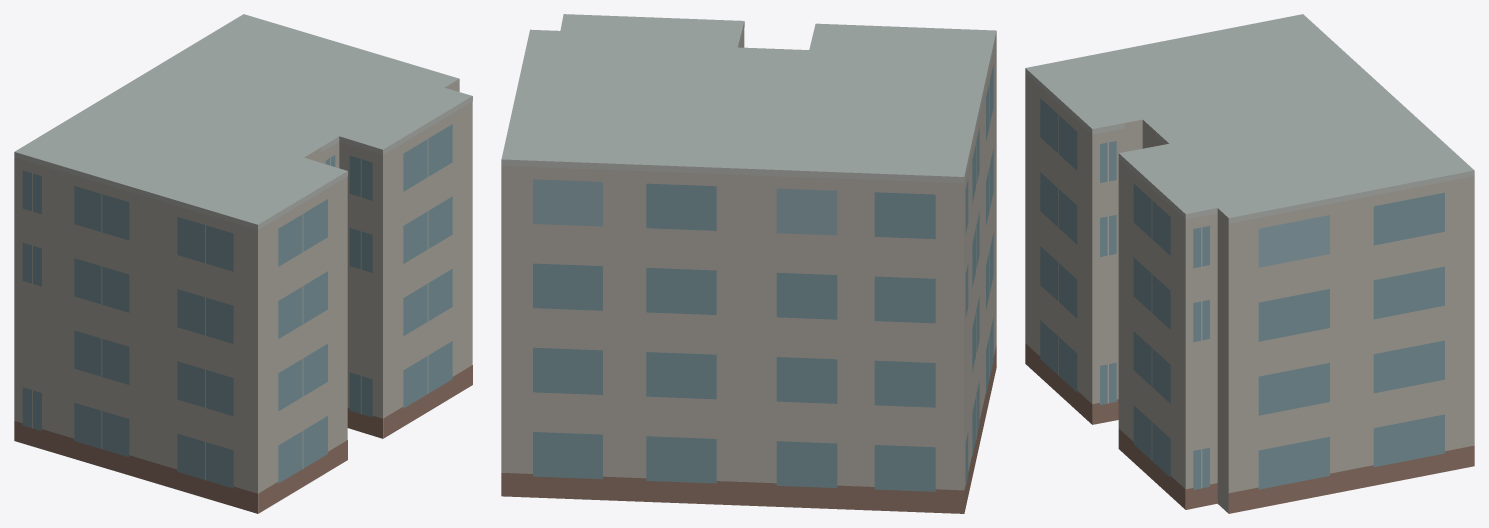
File: survey-upis-32911227.glb
3 renders of one model, left to right at view 1: azimuth 30°, elevation 25°; view 2: azimuth 150°, elevation 25°; view 3: azimuth 270°, elevation 25°, orthographic. The views are drawn at different scales.
Parts seen in each view (by area): view 1: survey-upis-32911227.tmp; view 2: survey-upis-32911227.tmp; view 3: survey-upis-32911227.tmp.
Part boxes in pixels (x1=…): survey-upis-32911227.tmp: x1=14, y1=14, x2=472, y2=513; survey-upis-32911227.tmp: x1=501, y1=14, x2=996, y2=513; survey-upis-32911227.tmp: x1=1025, y1=14, x2=1474, y2=513.
Size of the model in its own units: 19.41 by 13.1 by 18.05.
